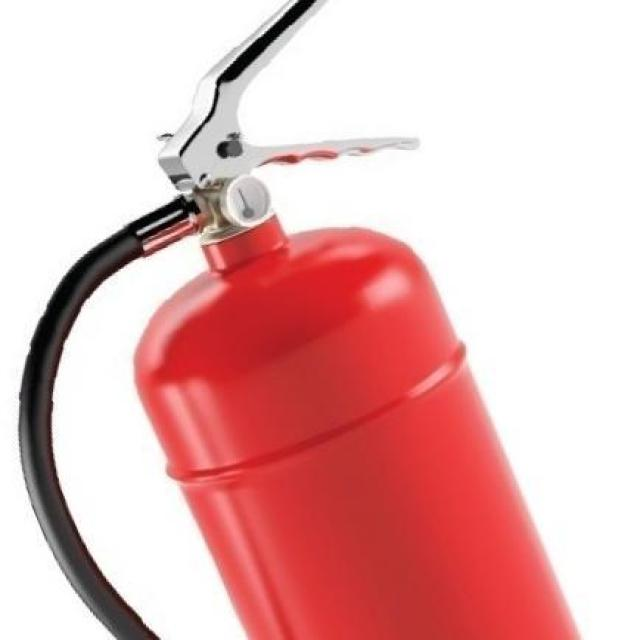fire_extinguisher: (11, 0, 588, 639)
